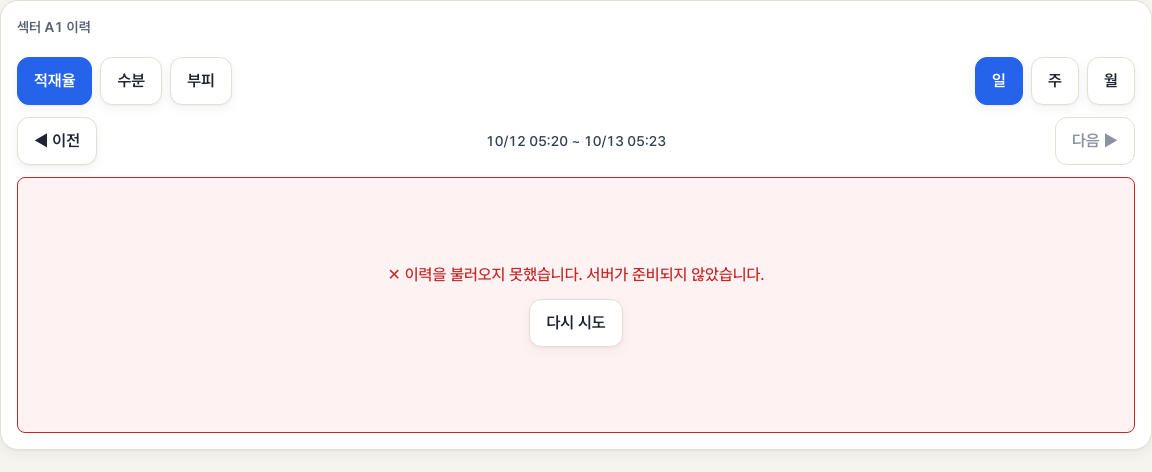
Test: HistoryPanel: 불러오는 중, 실패, 빈 구간 › 실패하면 그 자리에 오류와 다시 시도 버튼을 보여 주고, 다시 시도하면 그래프가 나온다
Expected: the message shows "이력을 불러오지 못했습니다", left=405, top=265, right=587, bottom=284
Expected: the message shows "서버가 준비되지 않았습니다.", left=587, top=265, right=765, bottom=284
Click the button "다시 시도" at point(576, 323), box left=529, top=299, right=622, bottom=347
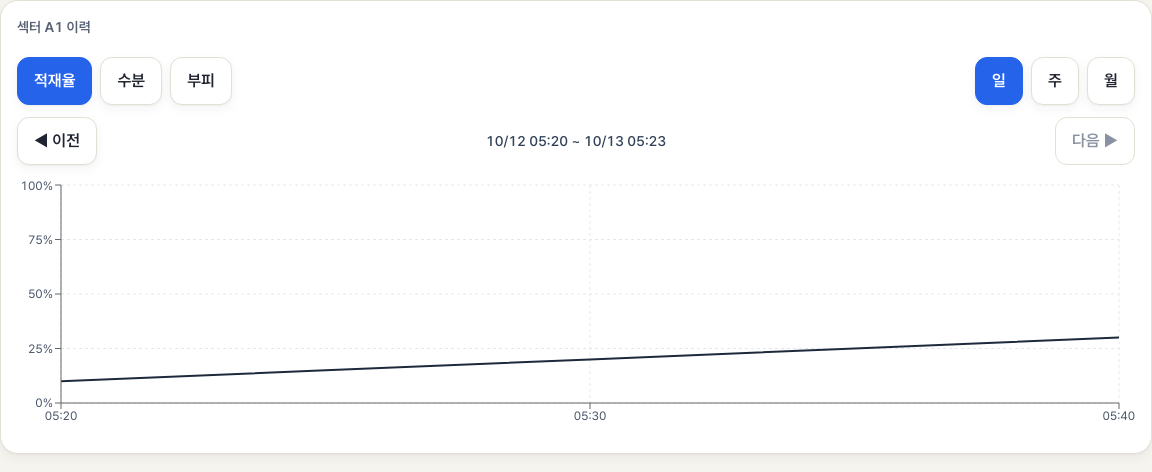
Expected: the picture is shown, left=17, top=177, right=1135, bottom=437
